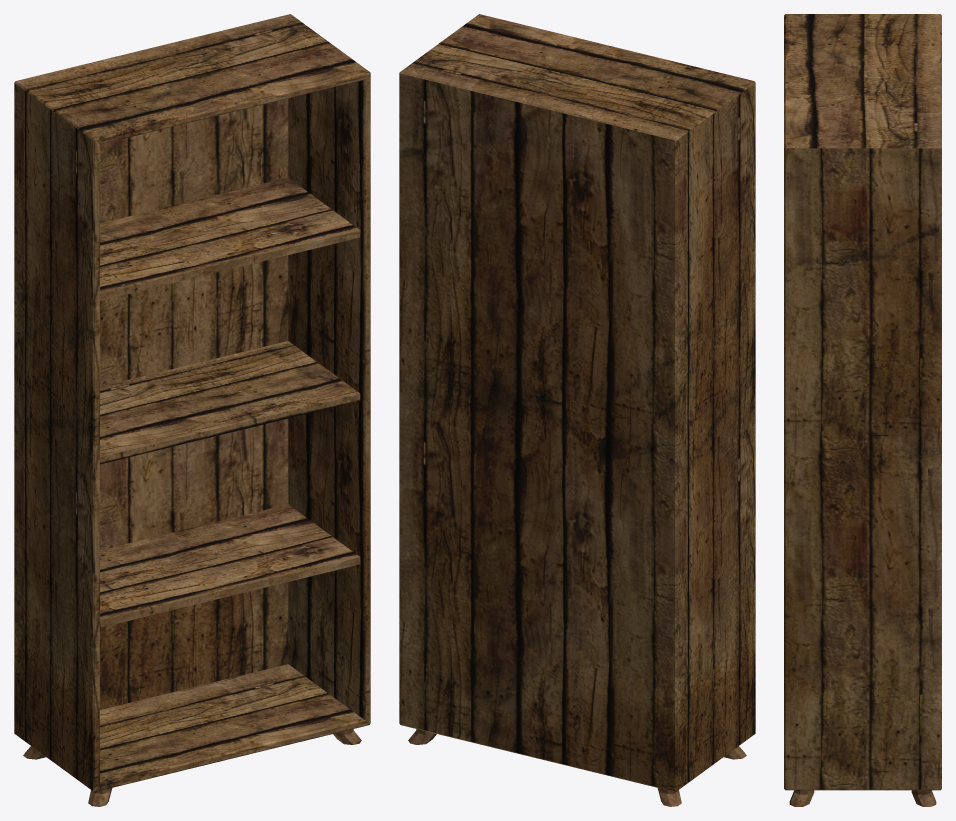
Rendered from Shelf_01.fbx.
3 views of the same model, side by side, from view 1: azimuth 30°, elevation 25°; view 2: azimuth 150°, elevation 25°; view 3: azimuth 270°, elevation 25° (orthographic).
Visible parts, largest first — view 1: pCube9; view 2: pCube9; view 3: pCube9.
Part boxes in pixels (x1=…): pCube9: x1=14, y1=14, x2=370, y2=806; pCube9: x1=399, y1=14, x2=755, y2=806; pCube9: x1=784, y1=14, x2=941, y2=806.
Size of the model in its own units: 80 by 185 by 40.
